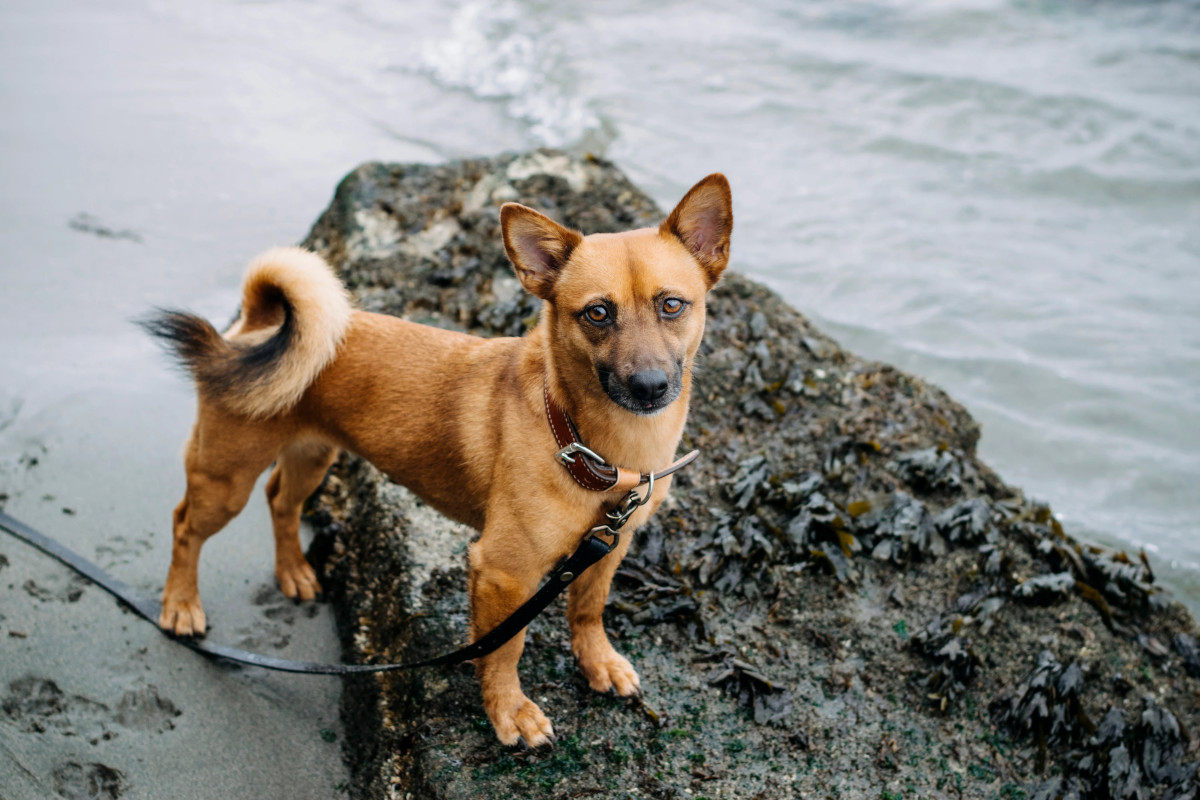dog: (130, 170, 735, 749)
